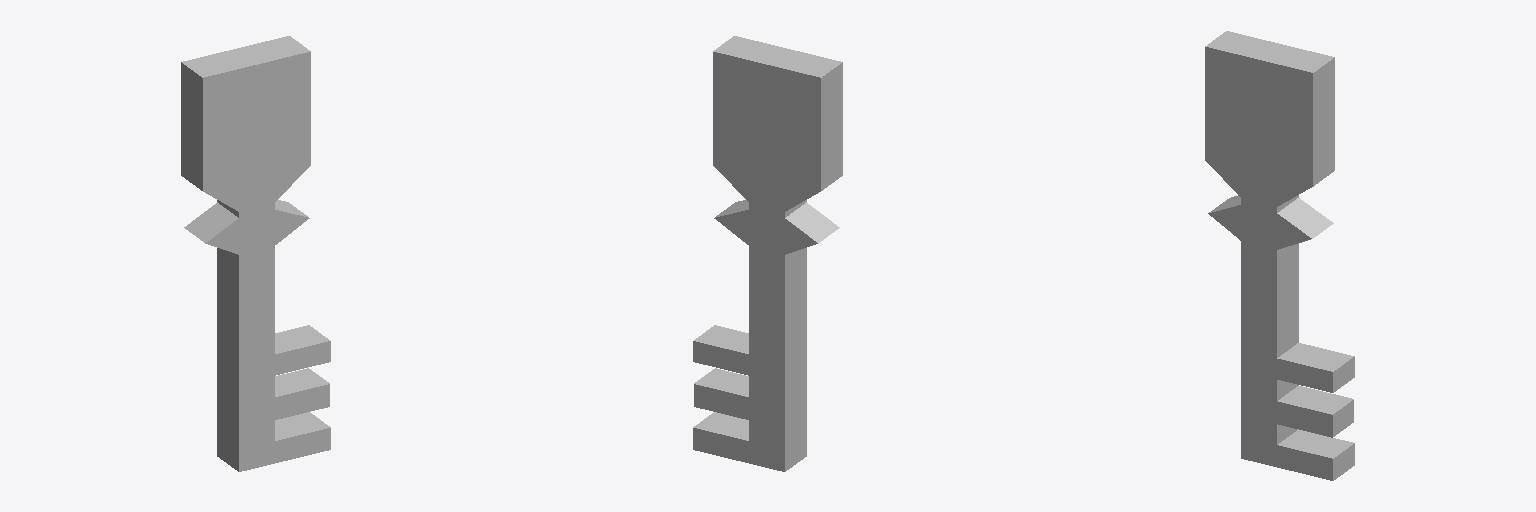
The model's file is key.obj.
The picture shows the model from 3 angles: view 1: azimuth 30°, elevation 25°; view 2: azimuth 150°, elevation 25°; view 3: azimuth 330°, elevation 25°; orthographic projection.
Visible parts, largest first — view 1: Cube; view 2: Cube; view 3: Cube.
Boxes of the visible parts, box(x1,y1,x2,y2) form: Cube: box(181, 36, 330, 471); Cube: box(693, 36, 842, 471); Cube: box(1205, 31, 1354, 480).
Bounding box in the file's own units: 1.01 × 3.02 × 0.293.